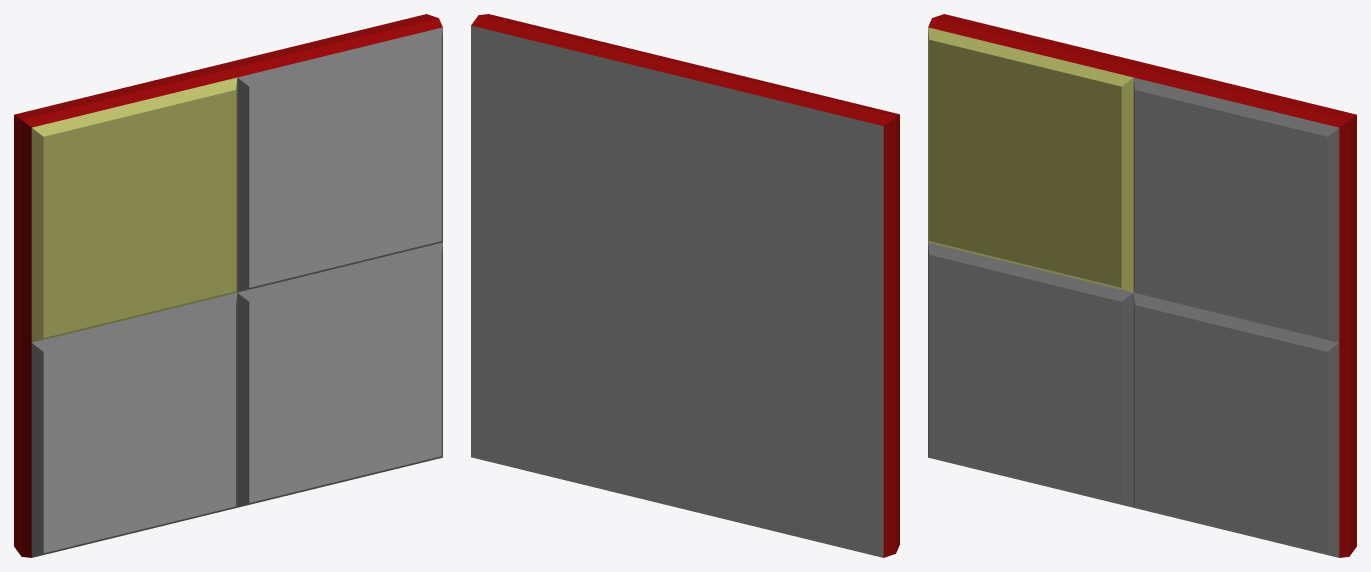
File: gold_panel.fbx
3 renders of one model, left to right at view 1: azimuth 30°, elevation 25°; view 2: azimuth 150°, elevation 25°; view 3: azimuth 330°, elevation 25°, orthographic.
Visible parts, largest first — view 1: gold_panel; view 2: gold_panel; view 3: gold_panel.
Boxes of the visible parts, x1,y1,x2,y2 form: gold_panel: [14, 14, 442, 557]; gold_panel: [471, 14, 899, 557]; gold_panel: [928, 14, 1356, 557].
Size of the model in its own units: 245 by 245 by 22.59.
